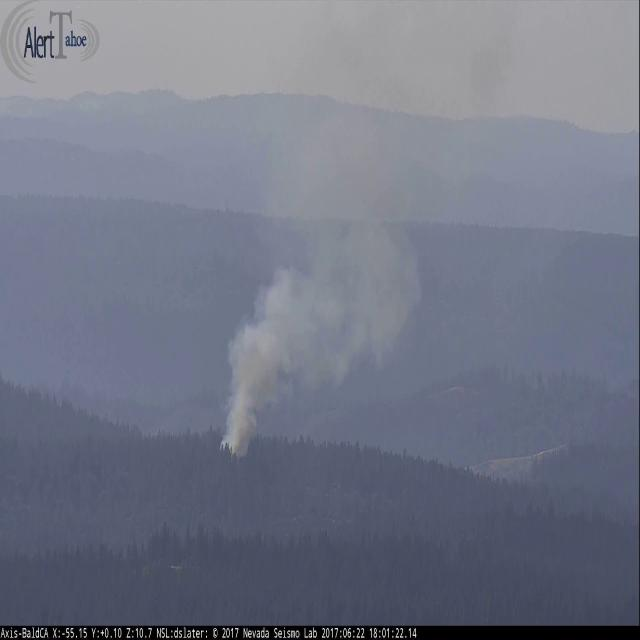smoke: (218, 40, 519, 452)
